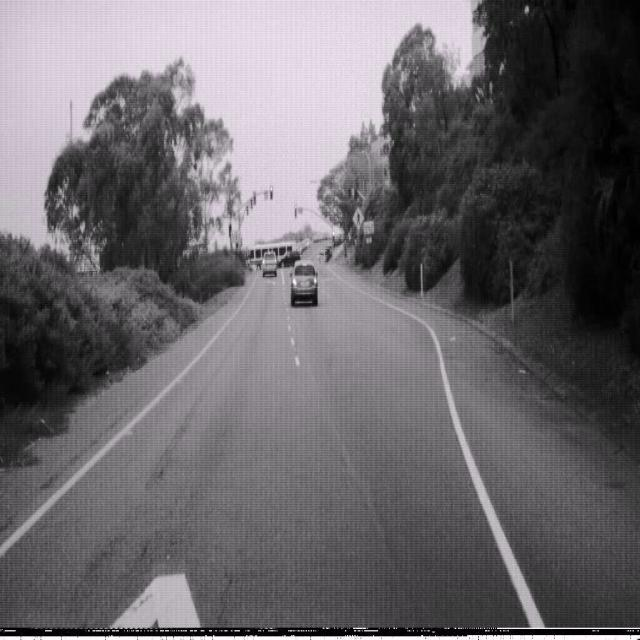pedestrianCrossing: (352, 204, 364, 232)
